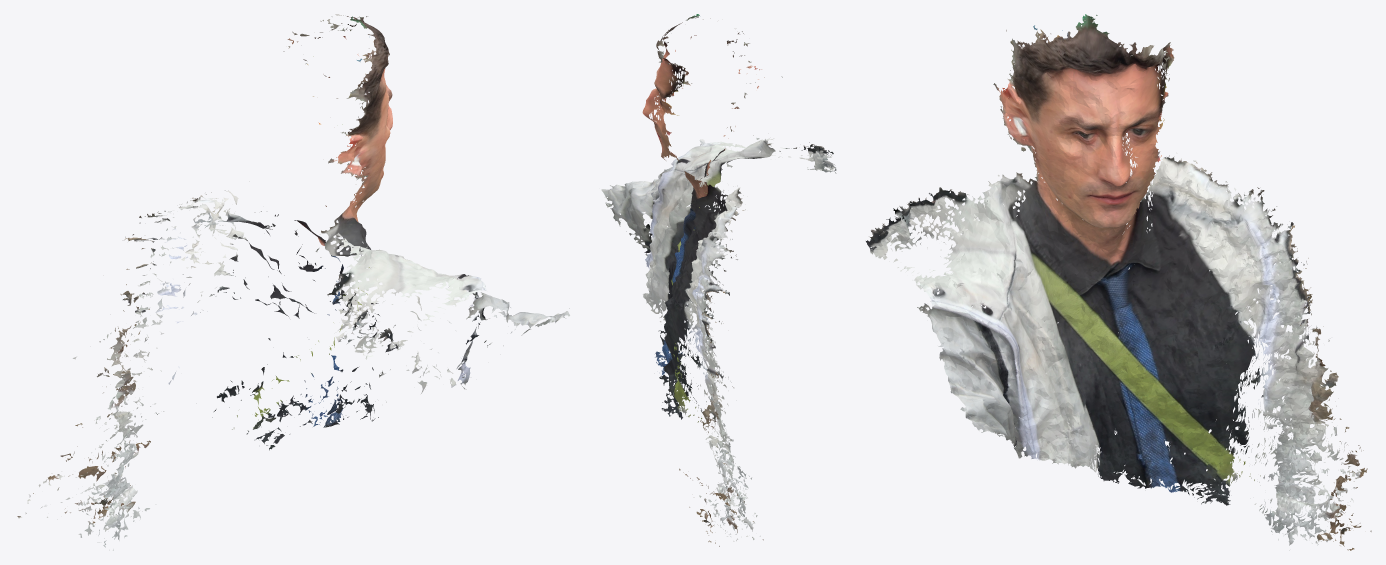
The model's file is matheus_3d.glb.
3 renders of one model, left to right at view 1: azimuth 30°, elevation 25°; view 2: azimuth 150°, elevation 25°; view 3: azimuth 270°, elevation 25°, orthographic. The views are drawn at different scales.
Size of the model in its own units: 2.92 by 4.07 by 3.05.
1 material, 1 textured.
